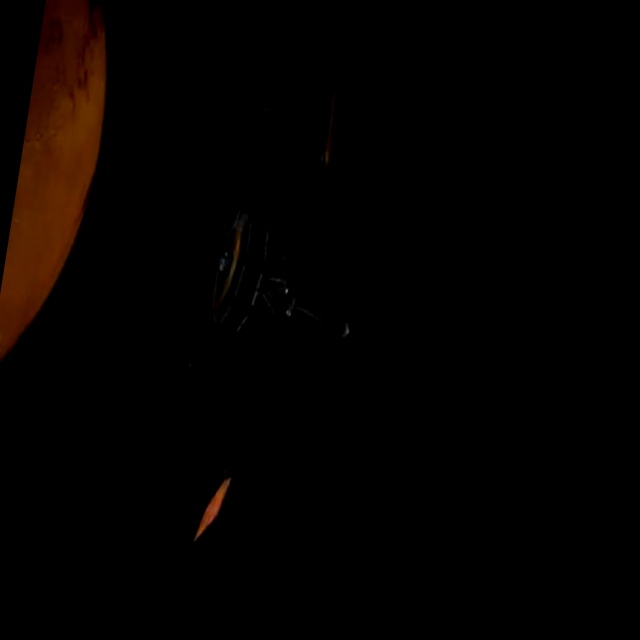medium_debris: (105, 0, 413, 640)
